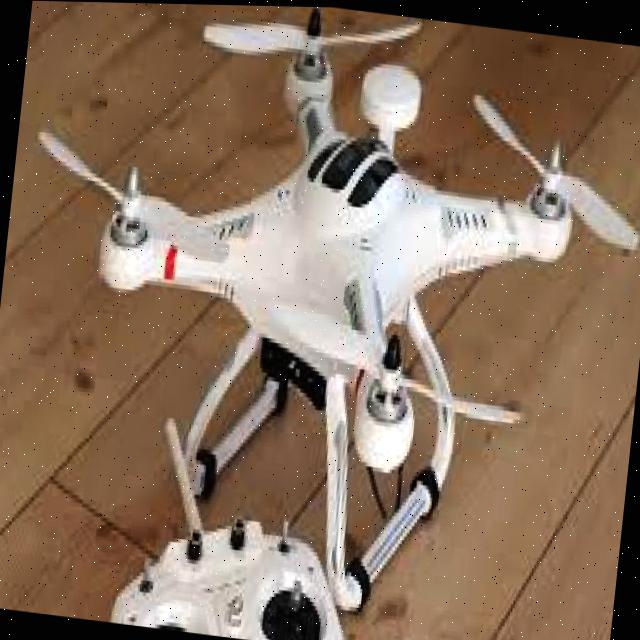drone: (0, 0, 640, 617)
